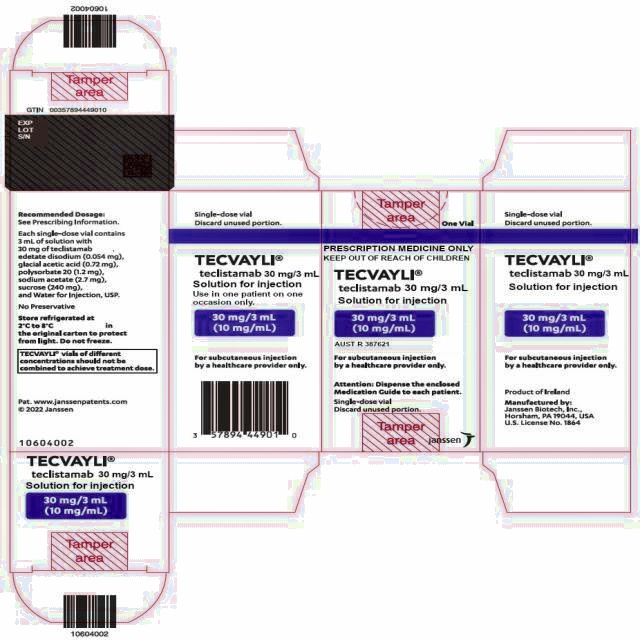Artwork: (0, 0, 640, 640)
Back_Panel: (10, 191, 169, 452)
Bottom_Part: (10, 451, 170, 572)
Extra_Areas: (169, 128, 320, 191), (169, 452, 321, 514), (481, 130, 632, 192), (481, 452, 632, 513), (11, 18, 168, 70), (12, 573, 168, 623)
Front_Panel: (322, 191, 480, 452)
Side_Panel: (169, 191, 322, 452), (481, 191, 631, 453)
Top_Panel: (10, 69, 170, 192)
